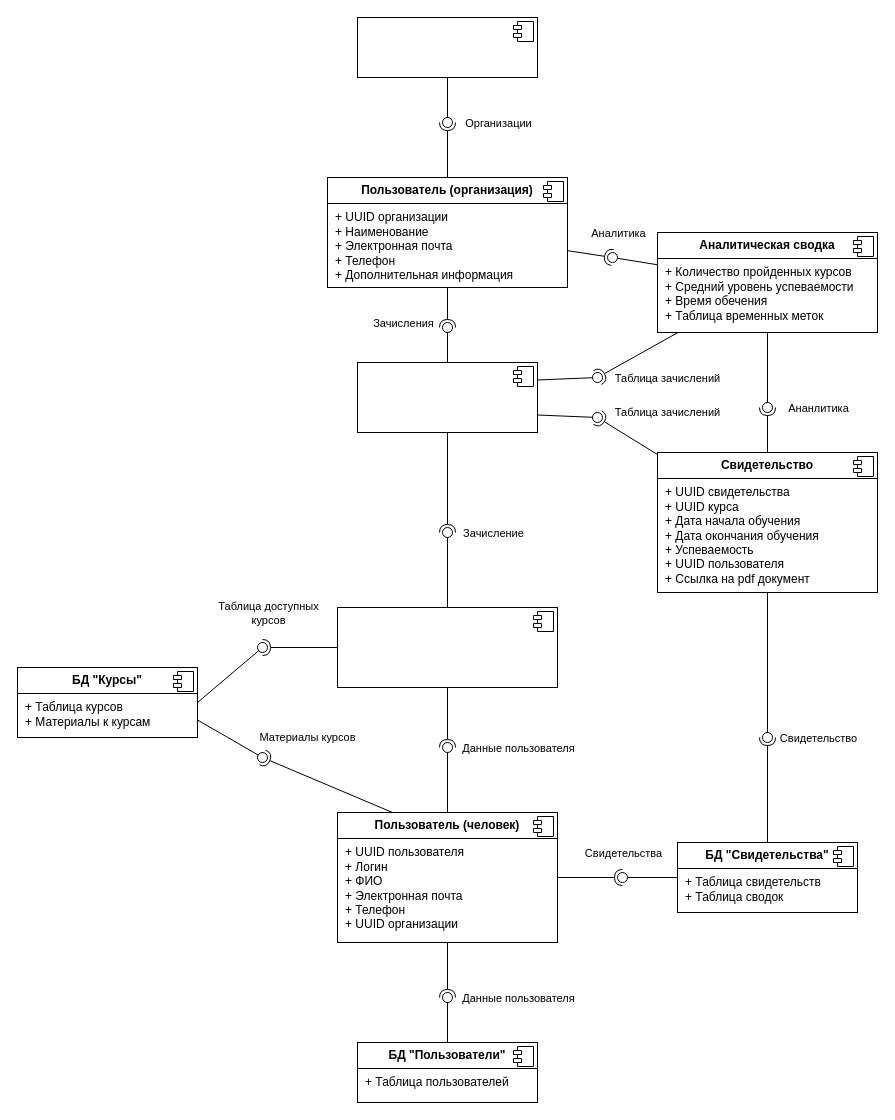
This 895x1120 diagram has some shape labels left out. Here are the shapes that lost their labels. From the top down, the box of each, then its label:
(356, 16, 538, 78): БД "Организации" + Таблица организаций
(356, 362, 538, 432): БД "Зачисления" + Таблица зачислений + Таблица сводок
(336, 606, 558, 688): Зачисление + UUID пользователя + UUID групы + UUID курса
